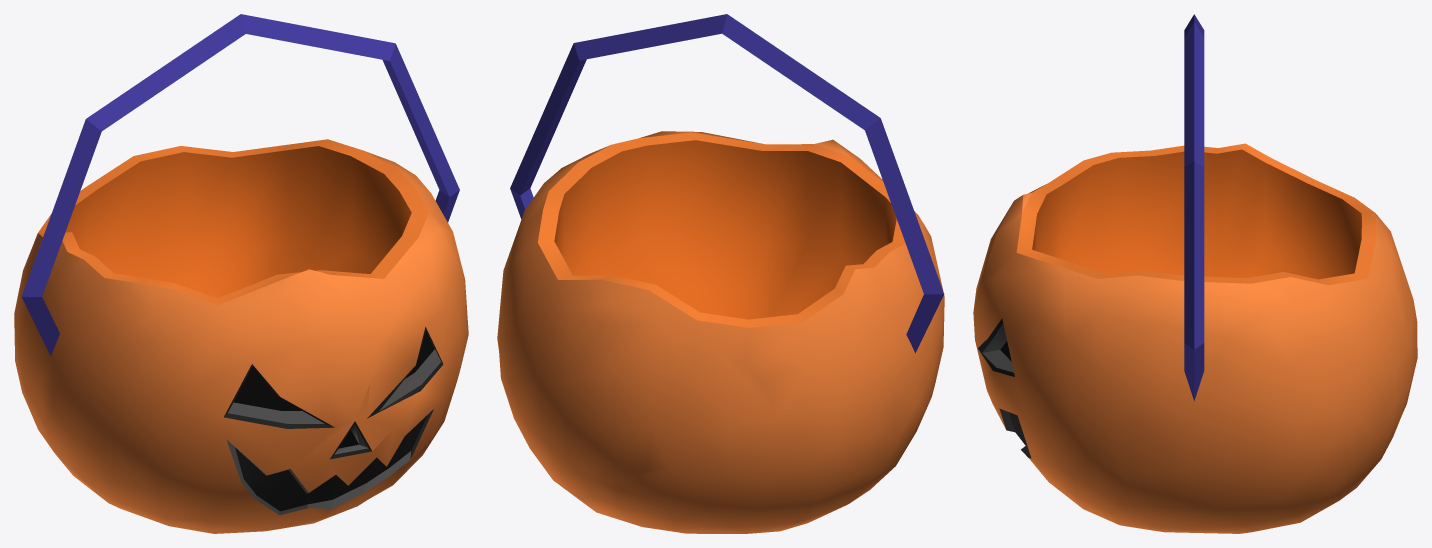
Rendered from HWN20_PumpkinBasket.glb.
3 views of the same model, side by side, from view 1: azimuth 30°, elevation 25°; view 2: azimuth 150°, elevation 25°; view 3: azimuth 270°, elevation 25° (orthographic). The views are drawn at different scales.
Parts seen in each view (by area): view 1: HWN20_PumpkinBasket; view 2: HWN20_PumpkinBasket; view 3: HWN20_PumpkinBasket.
Part boxes in pixels (bbox=[...]): HWN20_PumpkinBasket: bbox=[14, 14, 468, 533]; HWN20_PumpkinBasket: bbox=[497, 14, 944, 533]; HWN20_PumpkinBasket: bbox=[973, 14, 1417, 533].
Size of what is drawn, in the model's own units: 0.5515 by 0.5779 by 0.4965.
1 material, 1 textured.
